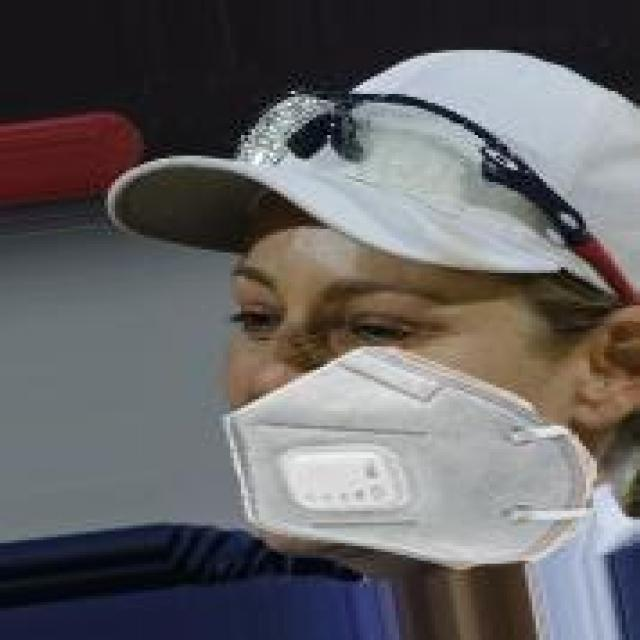mask: (165, 76, 640, 608)
